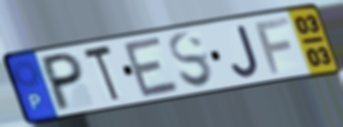E: (121, 34, 183, 101)
F: (252, 15, 293, 76)
J: (229, 23, 262, 79)
P: (40, 50, 85, 114)
S: (167, 30, 216, 90)
T: (80, 42, 122, 106)
